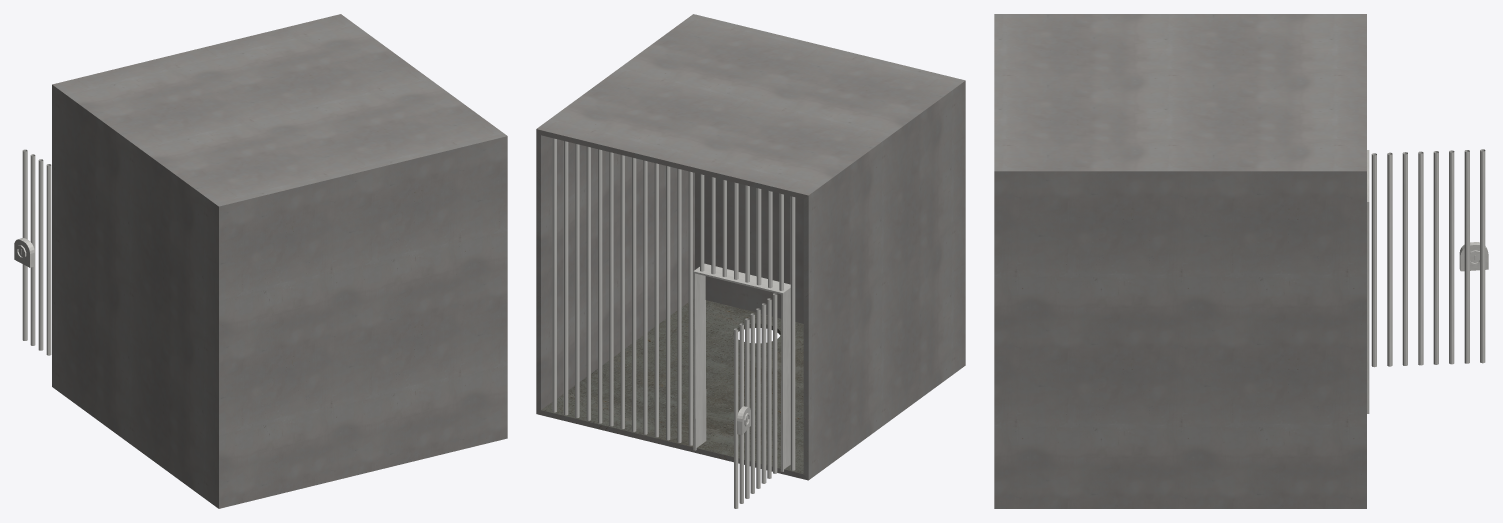
File: anim_cela.glb
3 renders of one model, left to right at view 1: azimuth 30°, elevation 25°; view 2: azimuth 150°, elevation 25°; view 3: azimuth 270°, elevation 25°, orthographic. The views are drawn at different scales.
Parts seen in each view (by area): view 1: container cela, barras.003; view 2: container cela, barras.002, barras.003, porta; view 3: container cela, barras.003, porta.
Boxes of the visible parts, bbox=[...] form: container cela: bbox=[52, 14, 507, 508]; barras.003: bbox=[22, 149, 51, 355]; container cela: bbox=[536, 14, 965, 480]; barras.002: bbox=[552, 138, 795, 470]; barras.003: bbox=[734, 293, 777, 508]; porta: bbox=[693, 263, 790, 471]; container cela: bbox=[994, 14, 1366, 508]; barras.003: bbox=[1371, 149, 1485, 367]; porta: bbox=[1367, 150, 1369, 413].
Bounding box in the file's own units: 6.02 × 6.02 × 7.98.
3 materials, 3 textured.
